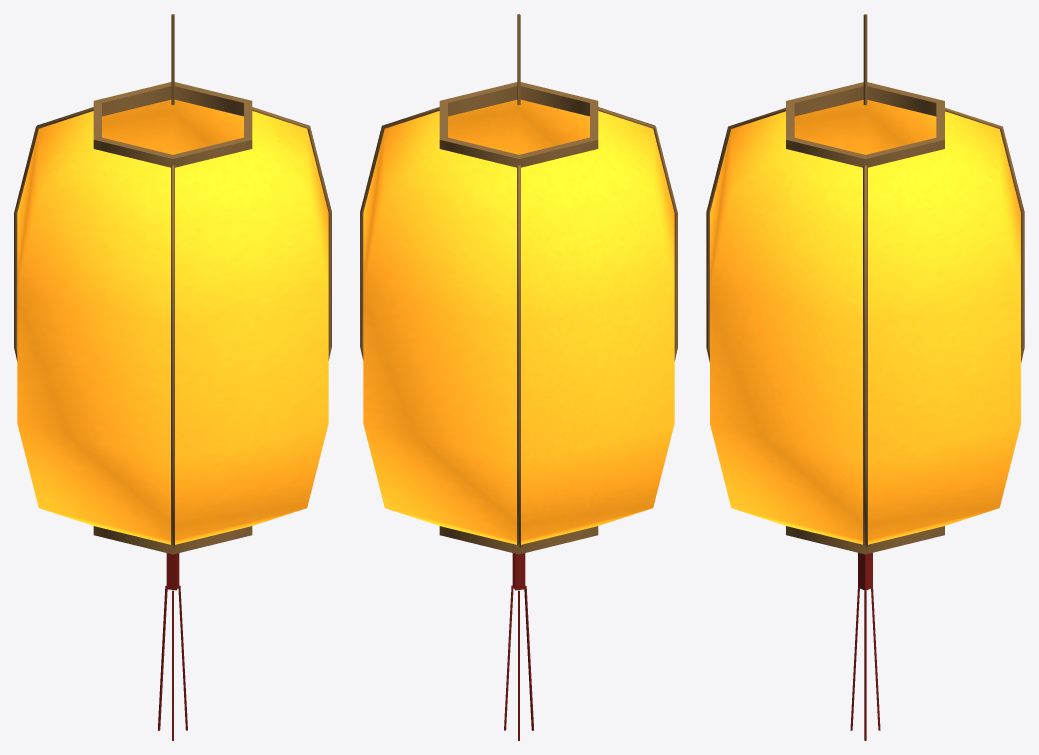
Rendered from den_long_02_lod1.glb.
3 views of the same model, side by side, from view 1: azimuth 30°, elevation 25°; view 2: azimuth 150°, elevation 25°; view 3: azimuth 270°, elevation 25° (orthographic).
Parts seen in each view (by area): view 1: bamboo_rib_0; view 2: bamboo_rib_0; view 3: bamboo_rib_0.
Part boxes in pixels (x1,y1,x2,y2): bamboo_rib_0: [14, 14, 331, 740]; bamboo_rib_0: [360, 14, 677, 740]; bamboo_rib_0: [706, 14, 1024, 740].
Size of the model in its own units: 0.293 by 0.6401 by 0.2569.
2 materials, 1 textured.
